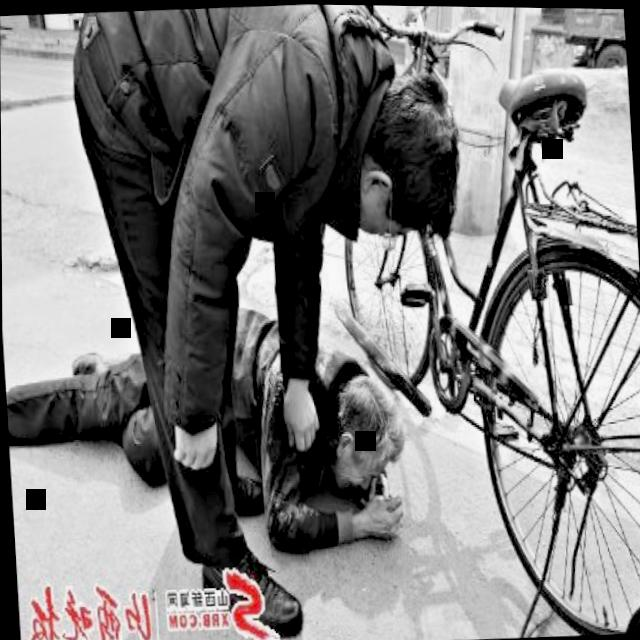Fall-Detected: (2, 286, 451, 563)
